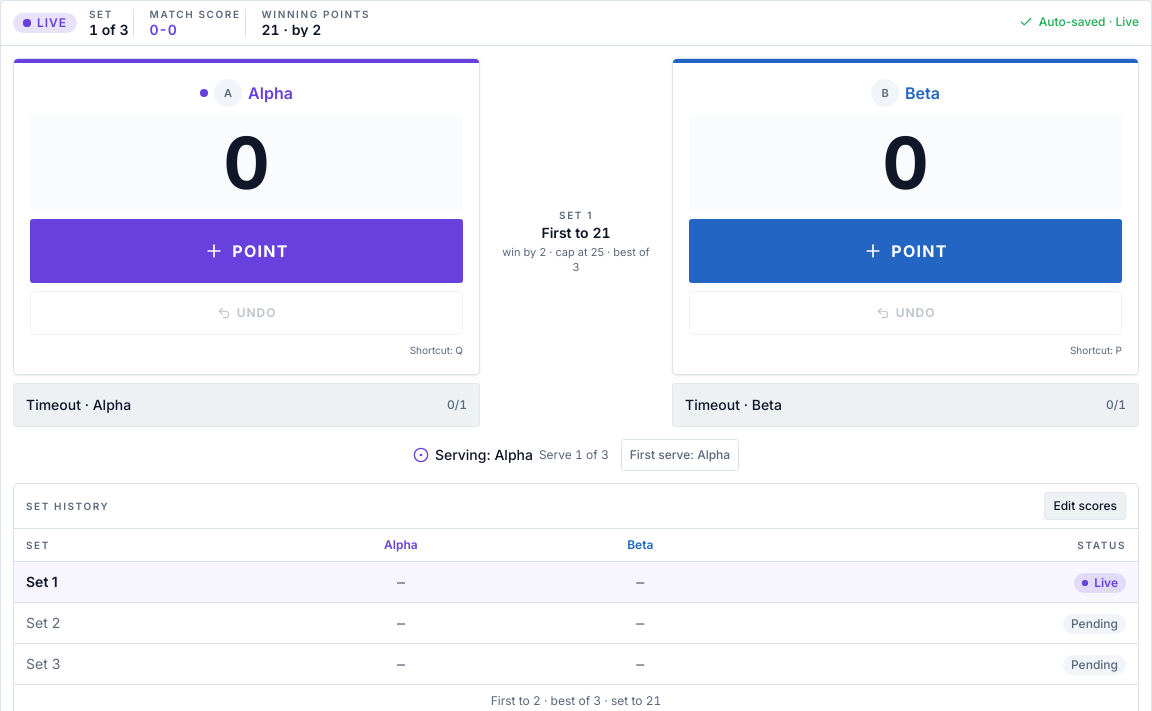
Scenario: SepakConsole › serve indicator follows the three-serve rotation and the first-server toggle
Expected: the element with test id "serve-indicator" shows "Serving: Alpha", [413,445,609,465]
Expected: the element with test id "serve-indicator" shows "Serve 1 of 3", [413,445,609,465]
// Three points hand the service turn to the other regu.
Step 1. Click the button with test id "point-home" → (246, 251), box [30,219,463,283]
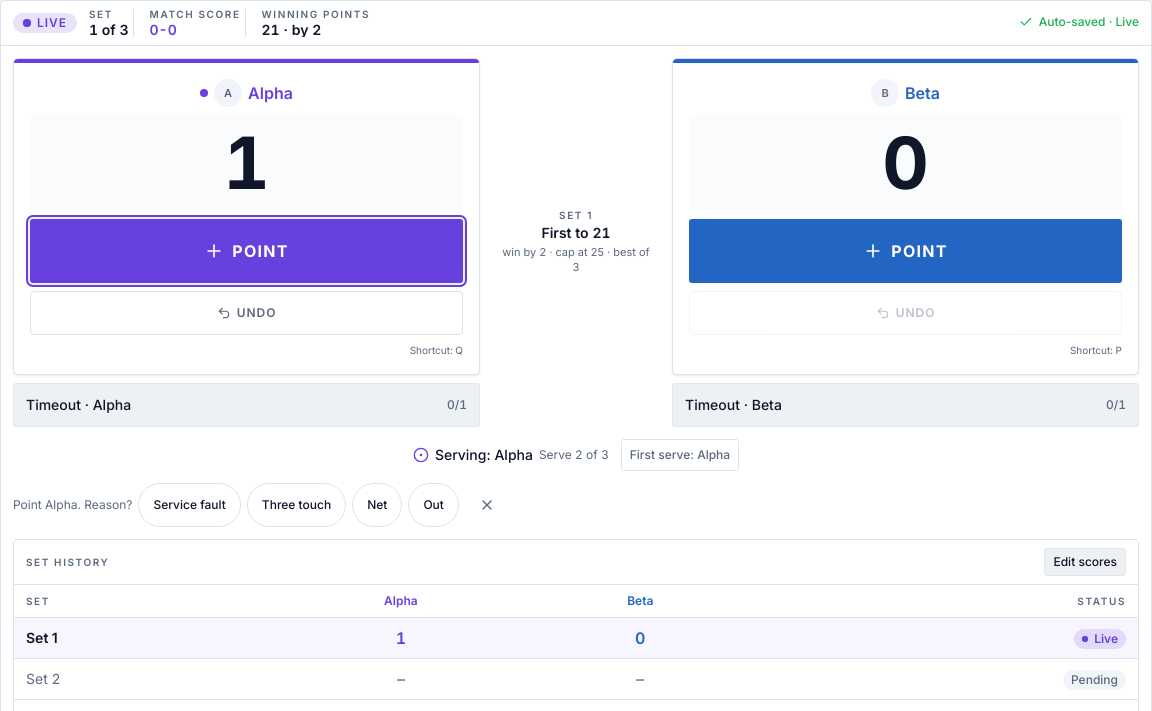
Result: the element with test id "serve-indicator" shows "Serve 2 of 3" at [413,445,609,465]
Step 2. Click the button with test id "point-home" → (246, 251), box [30,219,463,283]
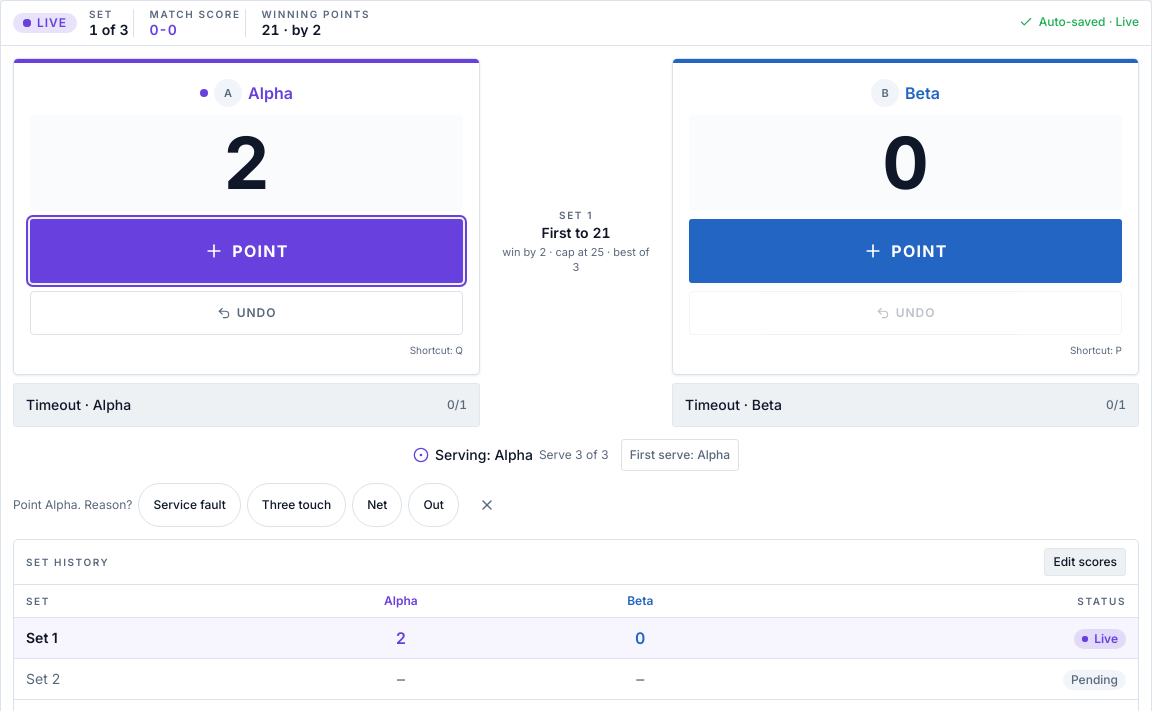
Step 3. Click the button with test id "point-home" → (246, 251), box [30,219,463,283]
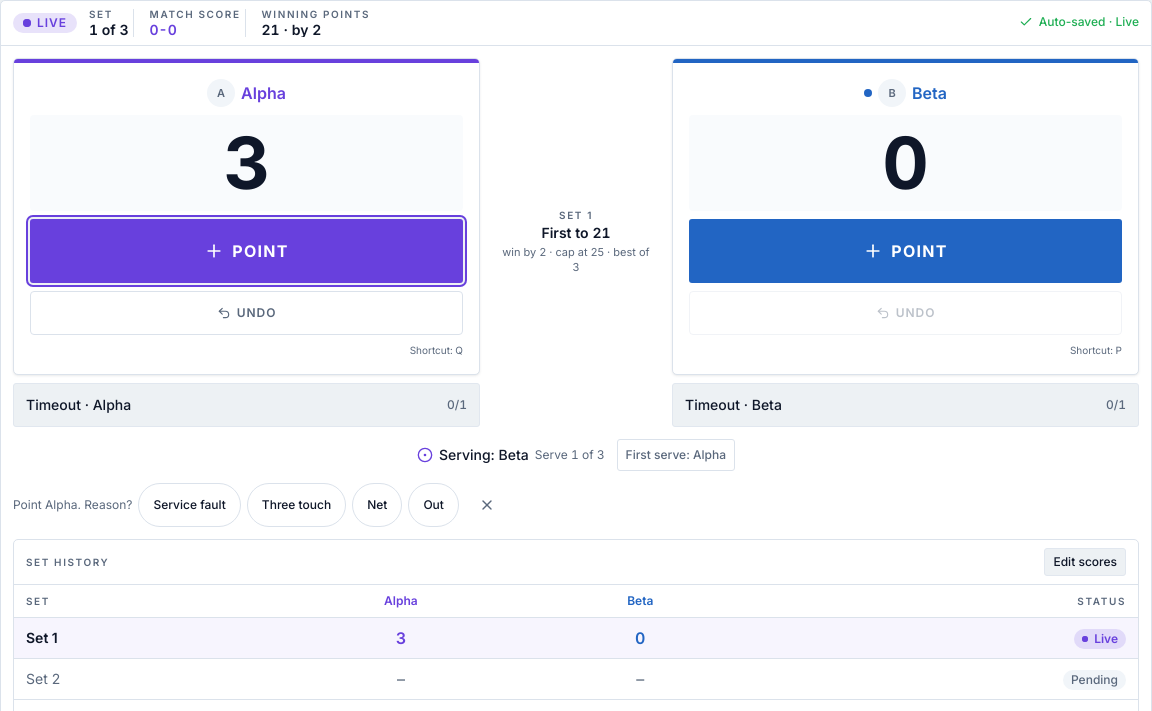
Result: the element with test id "serve-indicator" shows "Serving: Beta" at [417,445,605,465]
Result: the element with test id "serve-indicator" shows "Serve 1 of 3" at [417,445,605,465]
Step 4. Click the button with aria-label "first server" → (676, 455), box [617,439,735,471]
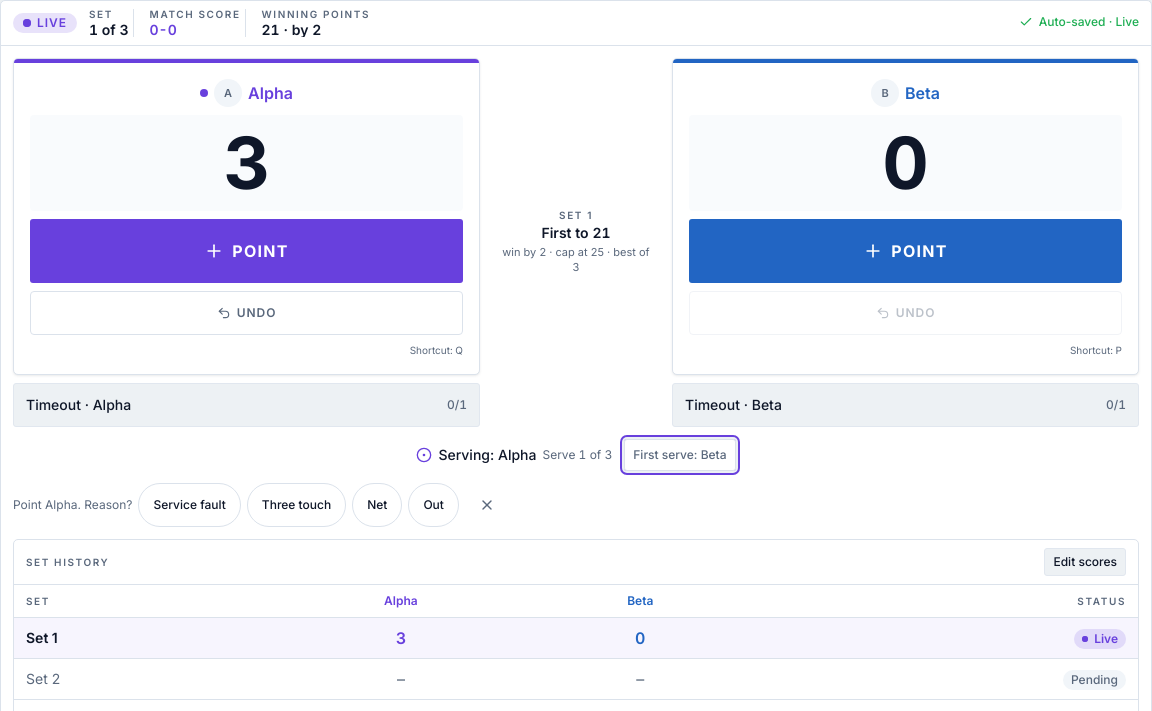
Result: the element with test id "serve-indicator" shows "Serving: Alpha" at [416,445,612,465]
